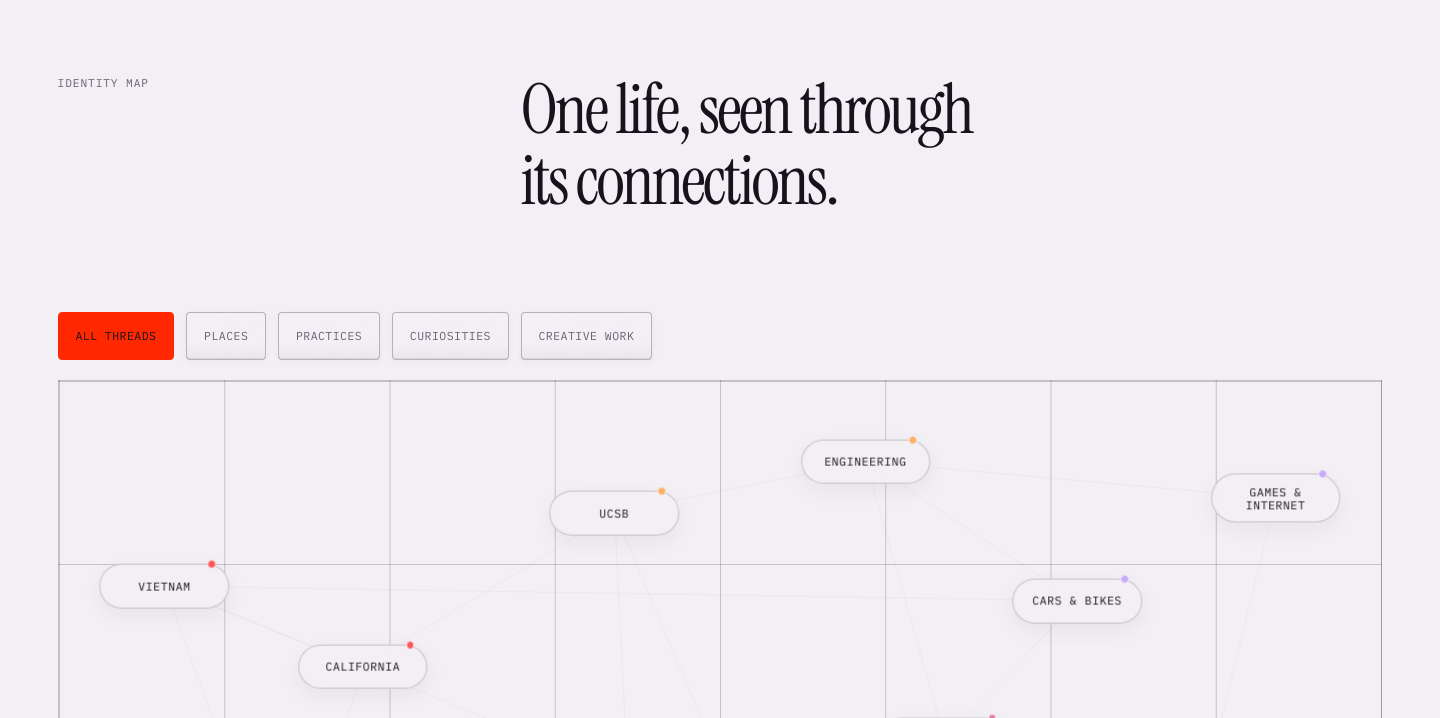
Test: IdentityMap › filters threads and lets visitors continue through related nodes
The width and height of the screenshot is (1440, 718).
Click the button "Creative work".
click(586, 336)  # box [521,312,652,360]
(page scrolled)
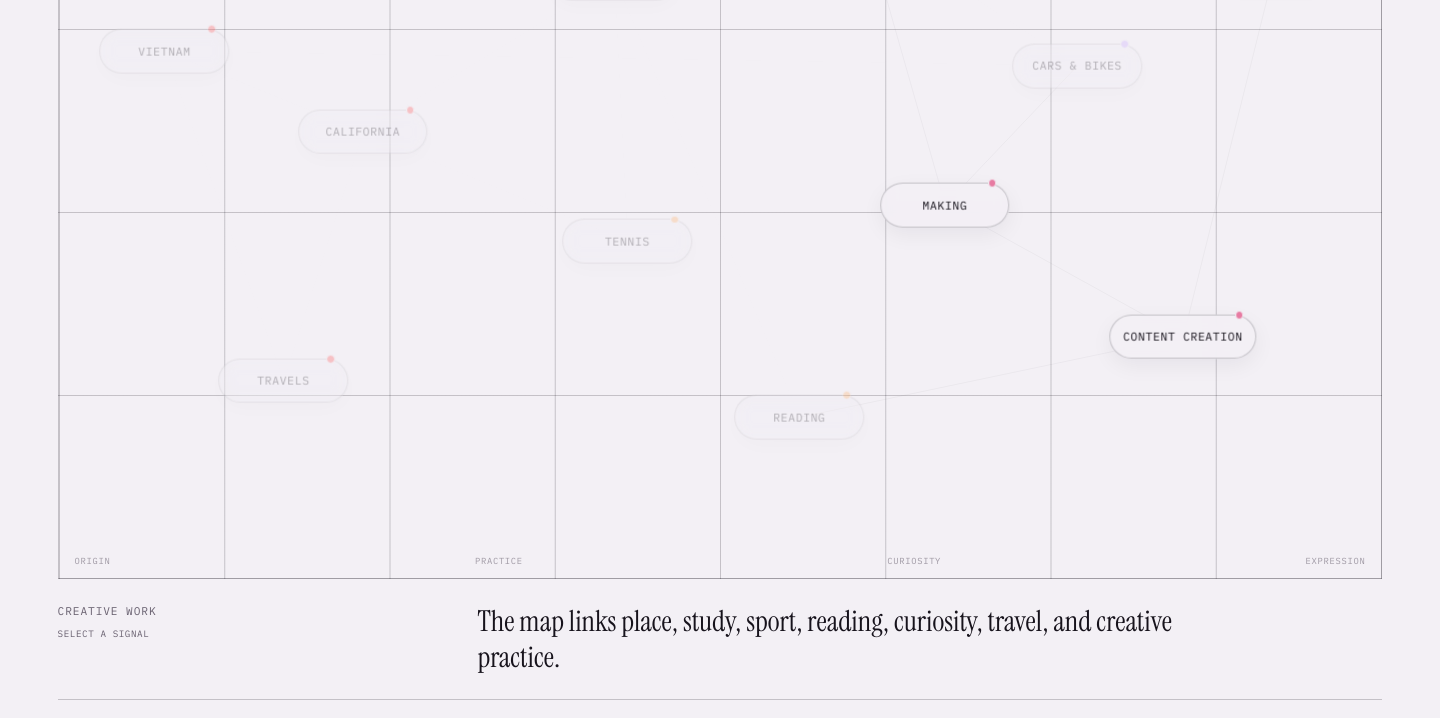
Click the button "Content creation".
click(1183, 337)  # box [1109,314,1257,359]
(page scrolled)
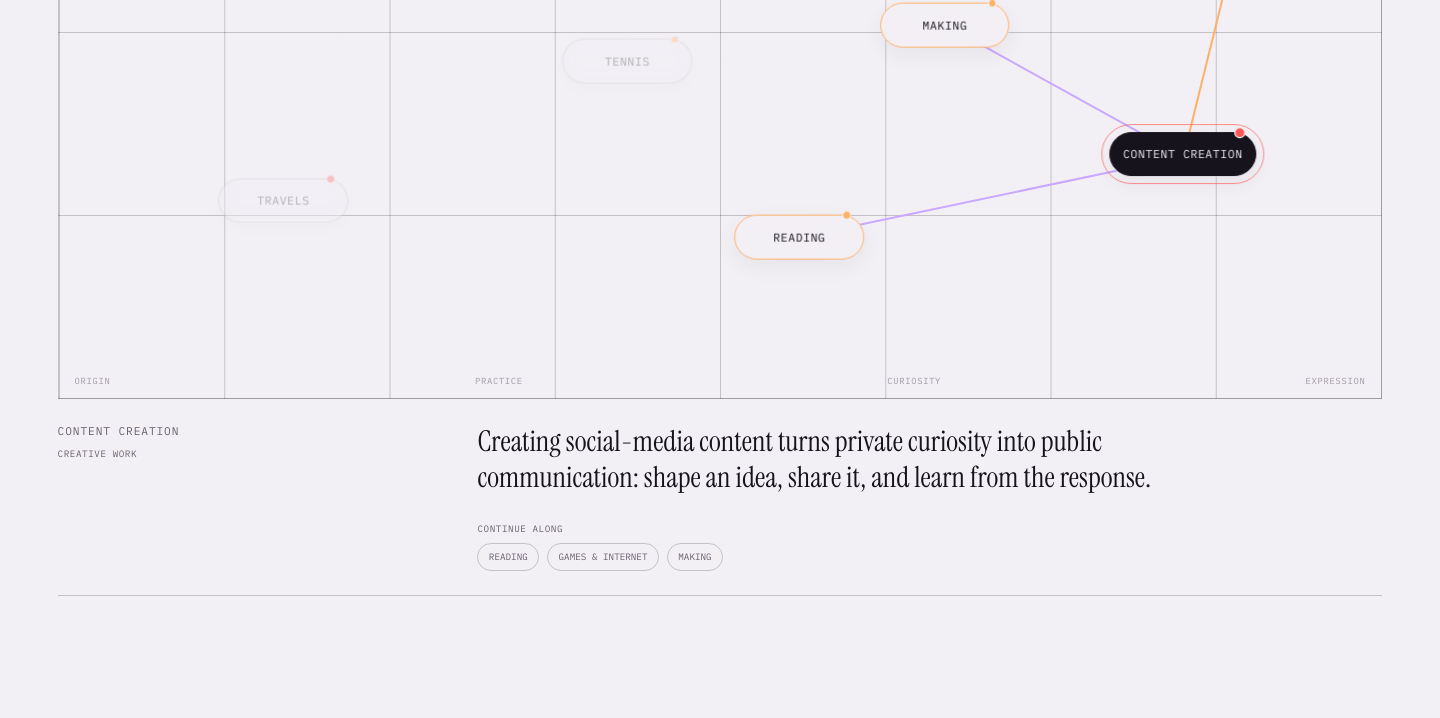
Expected: the text "private curiosity into public communication" is shown, [477,422,1151,496]
Click the button "Making" below "Continue along".
click(695, 557)  # box [667,543,723,571]
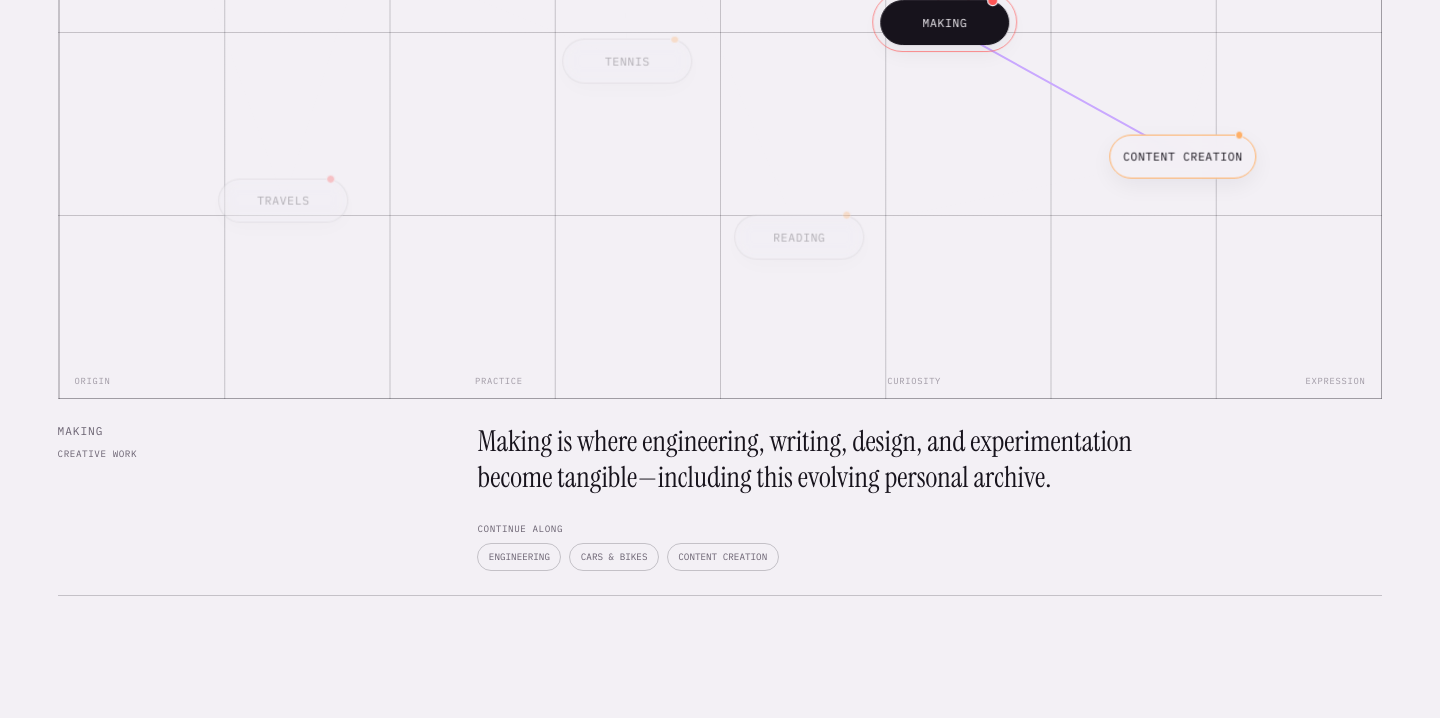
Expected: the text "engineering, writing, design" is shown, [477,422,1132,496]
